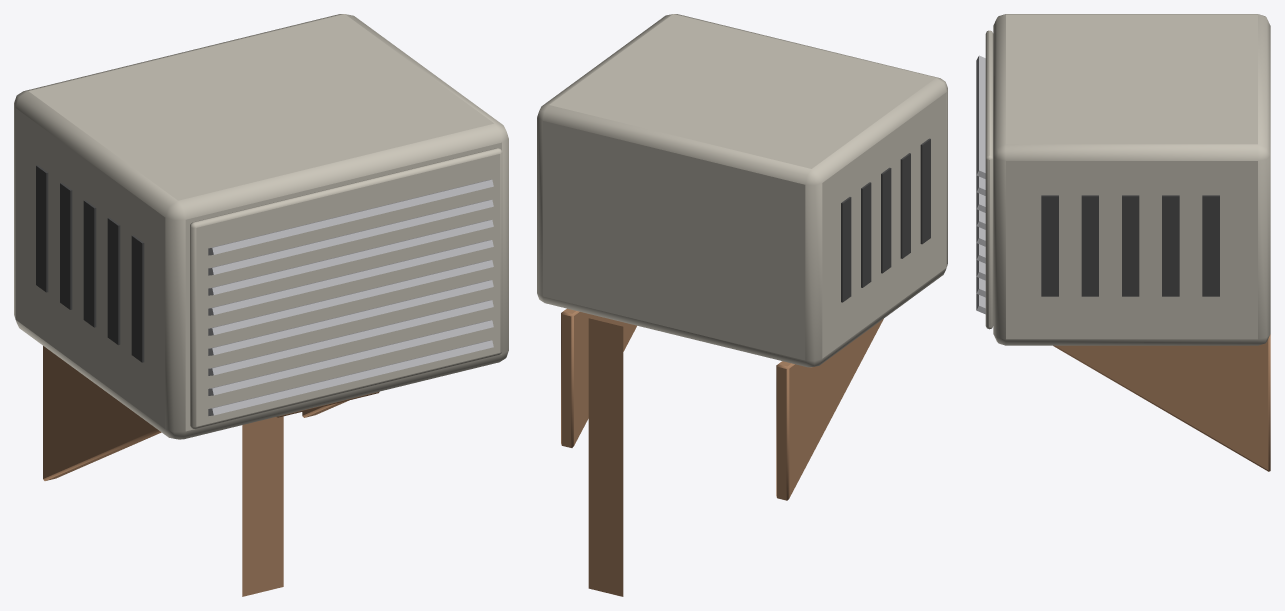
The model's file is wall_ac_unit.glb.
3 renders of one model, left to right at view 1: azimuth 30°, elevation 25°; view 2: azimuth 150°, elevation 25°; view 3: azimuth 270°, elevation 25°, orthographic. The views are drawn at different scales.
Parts seen in each view (by area): view 1: wall_ac_unit; view 2: wall_ac_unit; view 3: wall_ac_unit.
Part boxes in pixels (bbox=[...]): wall_ac_unit: bbox=[14, 14, 508, 596]; wall_ac_unit: bbox=[537, 14, 947, 596]; wall_ac_unit: bbox=[976, 14, 1270, 471].
Size of the model in its own units: 0.668 by 1.04 by 0.5834.
